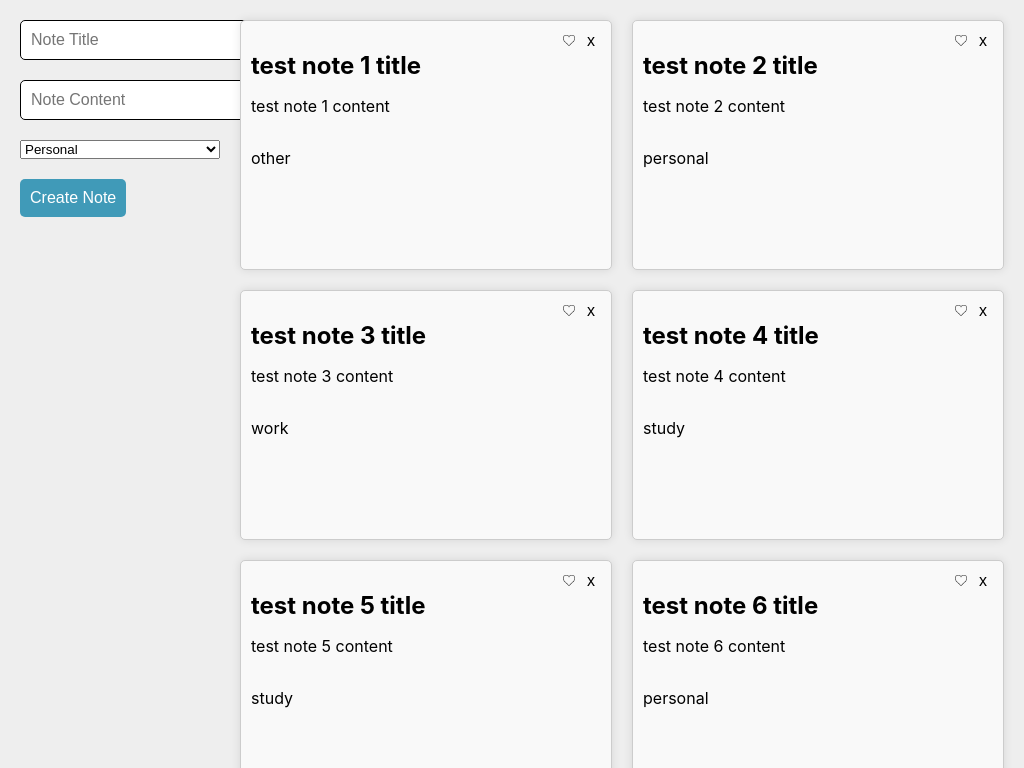
Test: Delete StickyNote › leaves other non-deleted notes intact
Expected: the heading "test note 1 title" is shown, [251,51,421,80]
Click the 1st button "x". click: (591,41)
box: [581,31,601,51]
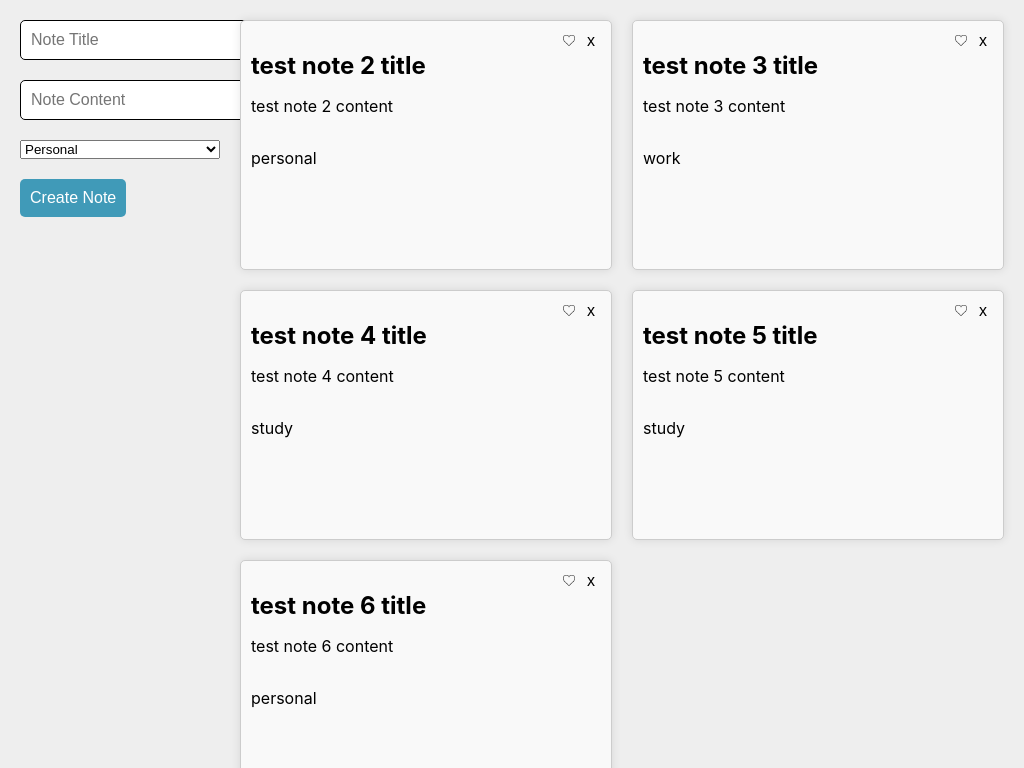
Expected: the heading "test note 3 title" is shown, [643,51,818,80]
Expected: the heading "test note 1 title" is gone
Click the 1st button "x". click: (591,41)
box: [581,31,601,51]
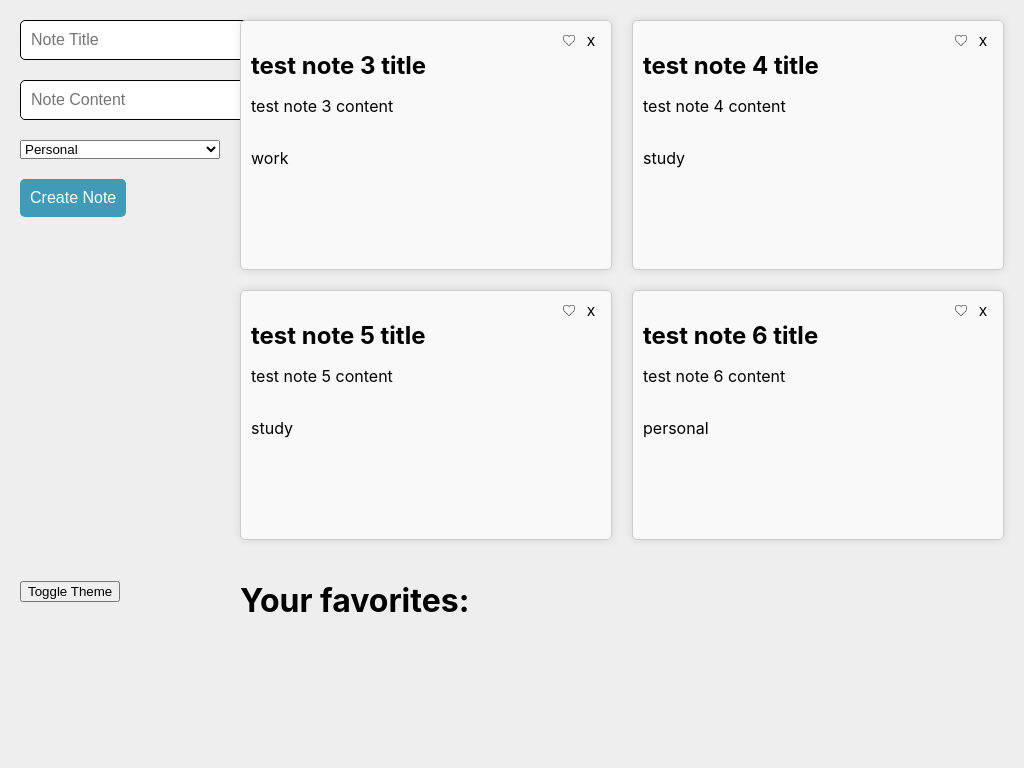
Expected: the heading "test note 4 title" is shown, [643,51,819,80]
Expected: the heading "test note 2 title" is gone
Click the 1st button "x". click: (591,41)
box: [581,31,601,51]
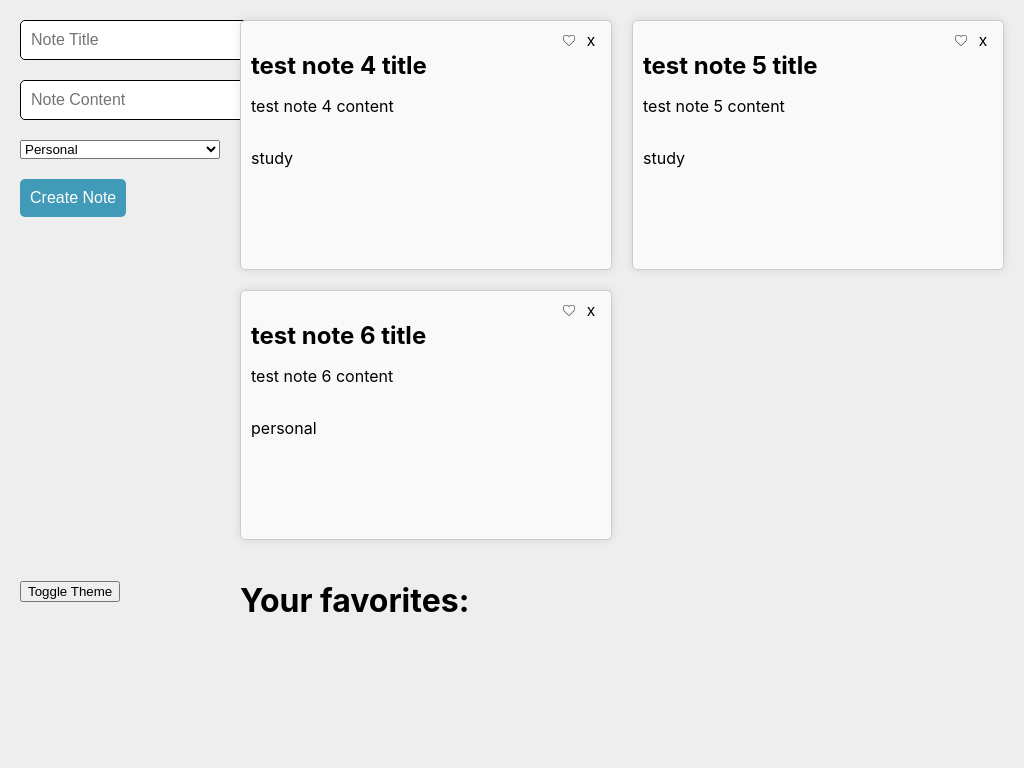
Expected: the heading "test note 5 title" is shown, [643,51,818,80]
Expected: the heading "test note 3 title" is gone
Click the 1st button "x". click: (591,41)
box: [581,31,601,51]
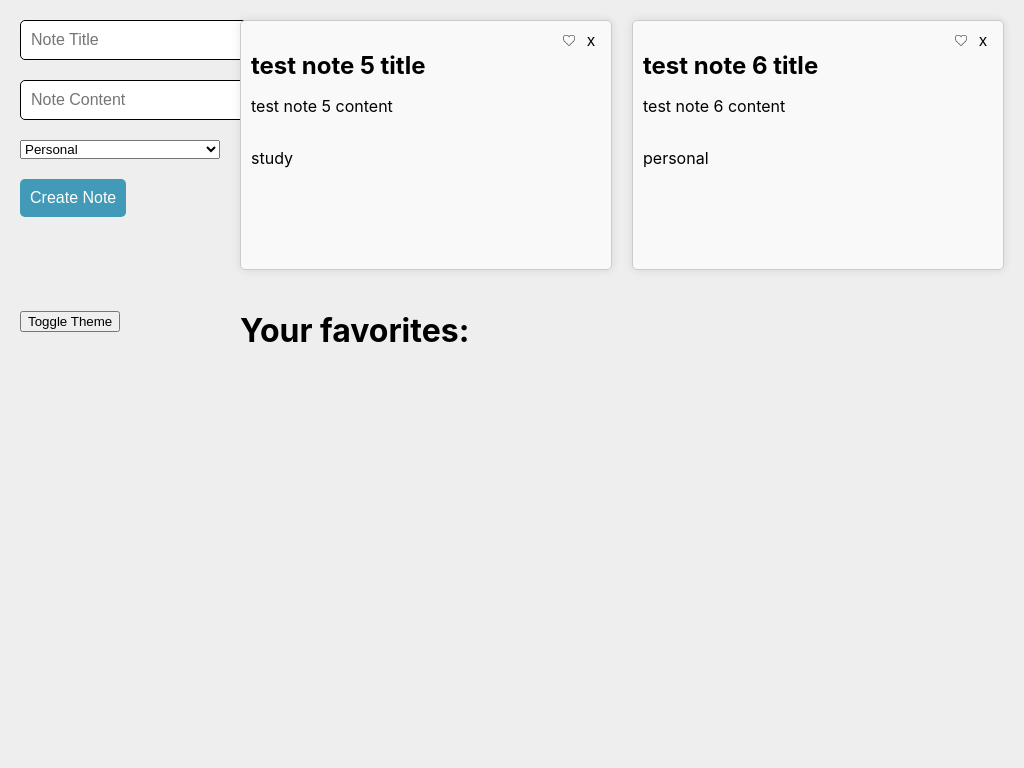
Expected: the heading "test note 6 title" is shown, [643,51,818,80]
Expected: the heading "test note 4 title" is gone
Click the 1st button "x". click: (591,41)
box: [581,31,601,51]
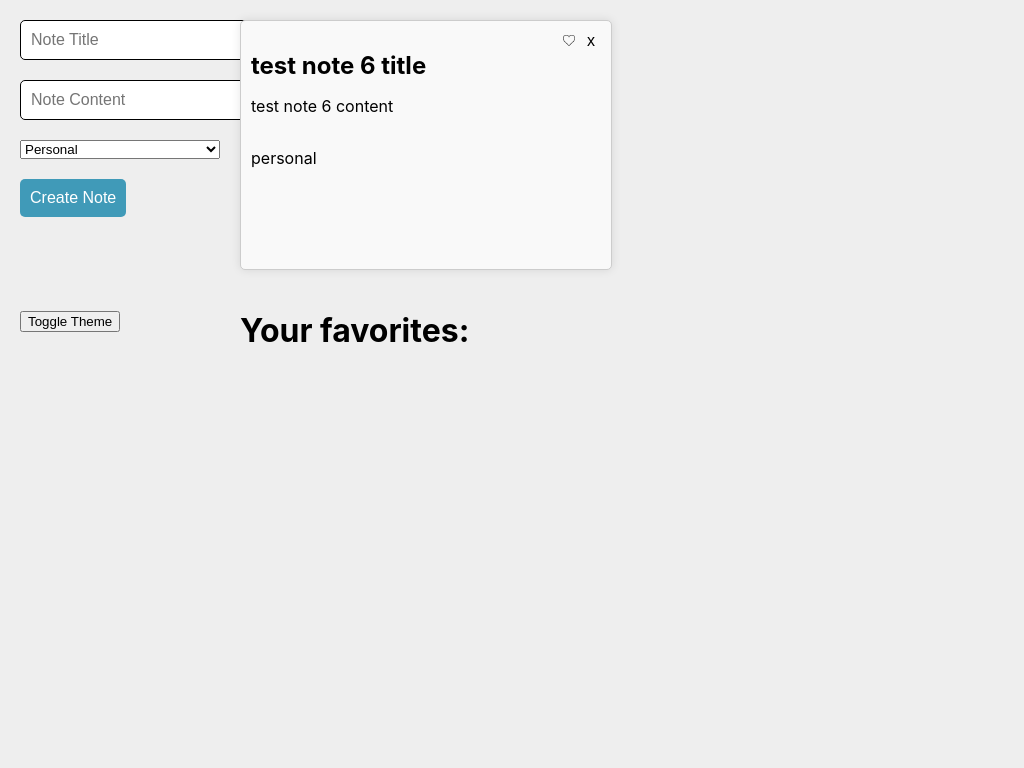
Expected: the heading "test note 6 title" is shown, [251,51,426,80]
Expected: the heading "test note 5 title" is gone
